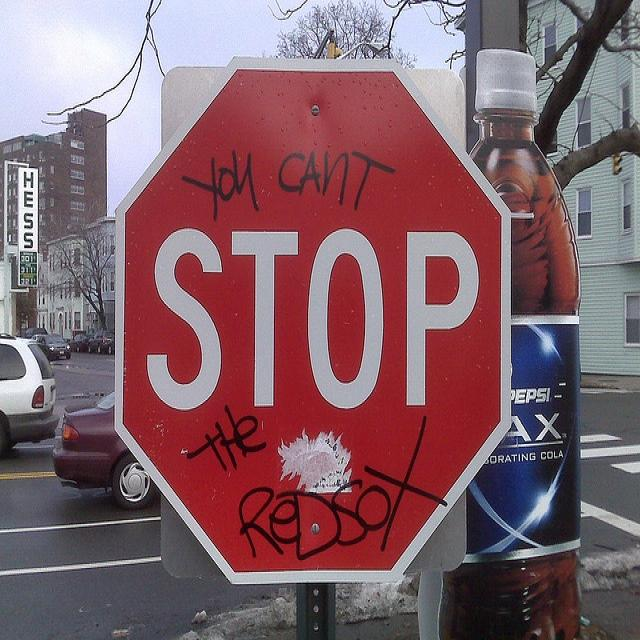car: (48, 380, 152, 509), (0, 333, 54, 456), (36, 331, 71, 361), (85, 328, 113, 352), (67, 337, 85, 352), (102, 332, 113, 352), (24, 325, 46, 335), (30, 332, 46, 341)
